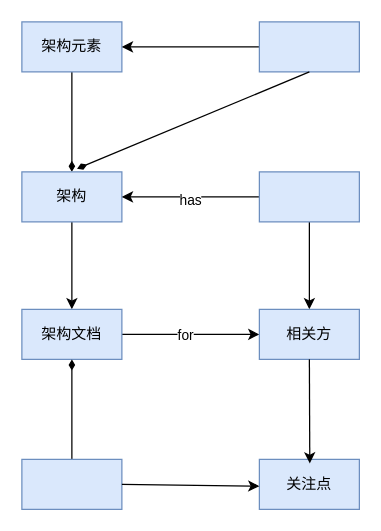
Image size: 381x531. Some labels were removed from this diagram. The centre of each missing label's shape, as x and y in pixels:
"元素间关系" belongs at point (308, 46).
"架构视图" belongs at point (71, 483).
"系统" belongs at point (308, 196).
